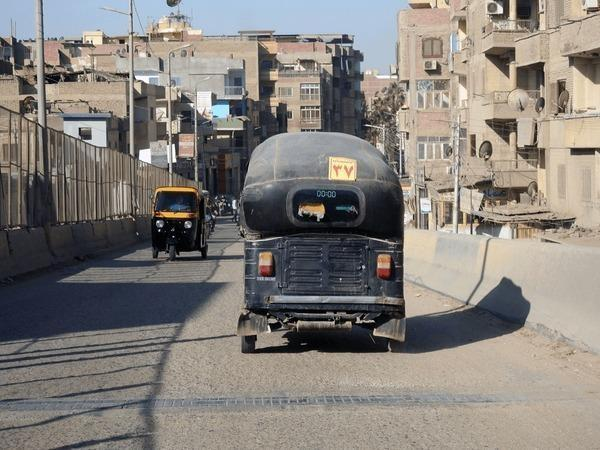keke: (238, 129, 409, 356), (152, 184, 209, 262)
